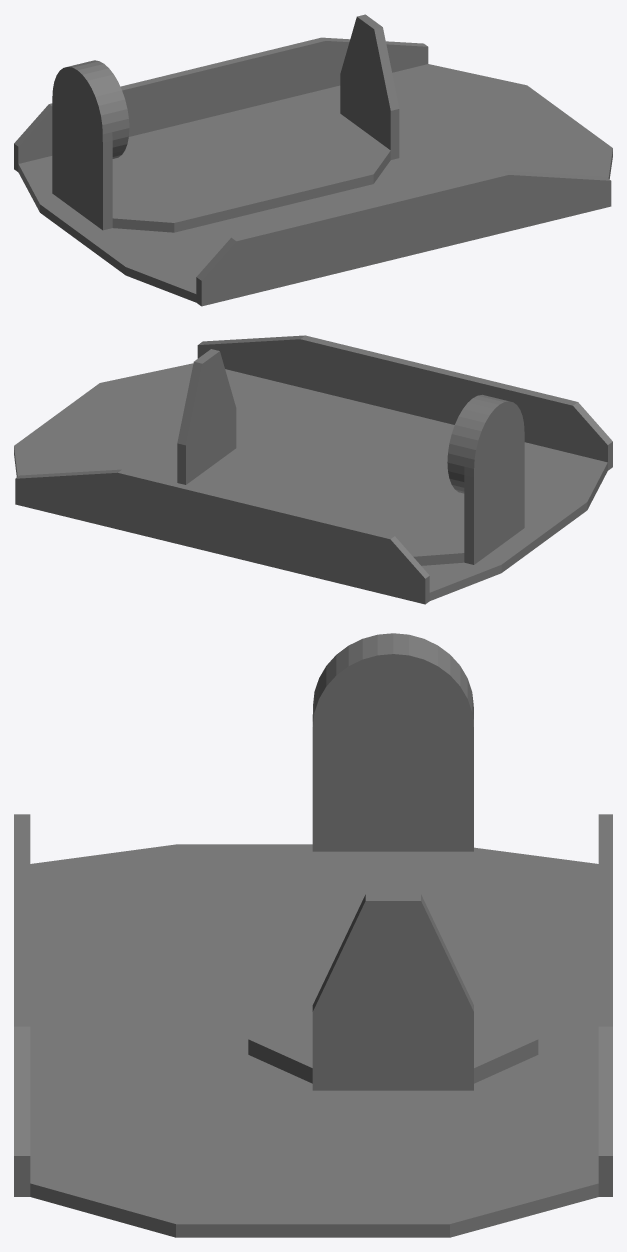
File: footprint_R.dae
3 renders of one model, top to bottom at view 1: azimuth 30°, elevation 25°; view 2: azimuth 150°, elevation 25°; view 3: azimuth 270°, elevation 25°, orthographic. The views are drawn at different scales.
Parts seen in each view (by area): view 1: footprint_R; view 2: footprint_R; view 3: footprint_R.
Part boxes in pixels (left/top/right/bottom): footprint_R: left=14, top=14, right=612, bottom=306; footprint_R: left=14, top=335, right=612, bottom=604; footprint_R: left=14, top=633, right=612, bottom=1237.
Bounding box in the file's own units: 0.09 × 0.06 × 0.0266.
Materials: 1 (1 with a texture image).
